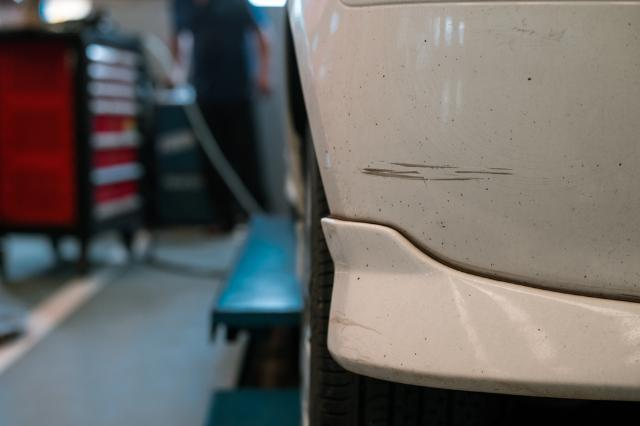scratch: (360, 157, 522, 184)
